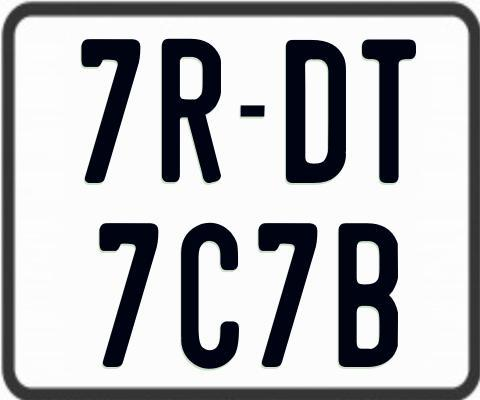7: (255, 223, 317, 369), (99, 223, 158, 368), (81, 39, 140, 183)
B: (337, 222, 401, 370)
C: (179, 222, 240, 370)
D: (285, 38, 345, 183)
R: (161, 36, 223, 185)
T: (360, 37, 414, 182)
